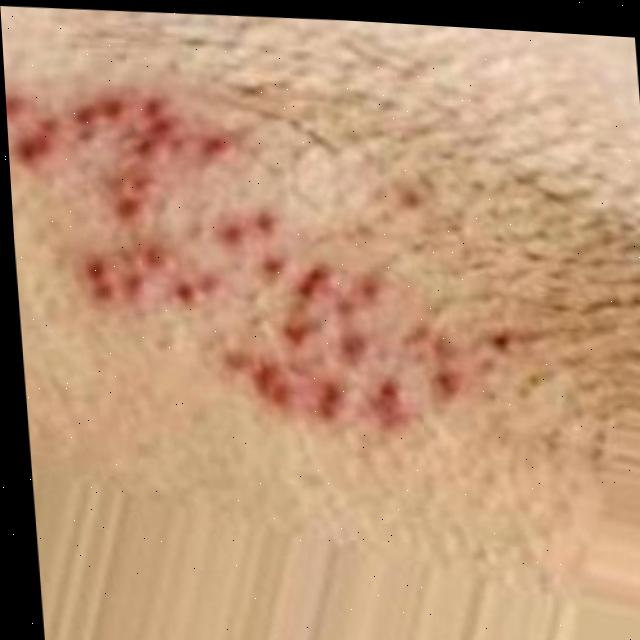Shingles: (11, 63, 491, 466)
